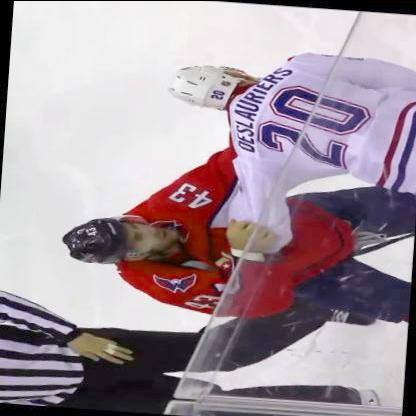voilence: (57, 34, 415, 331)
